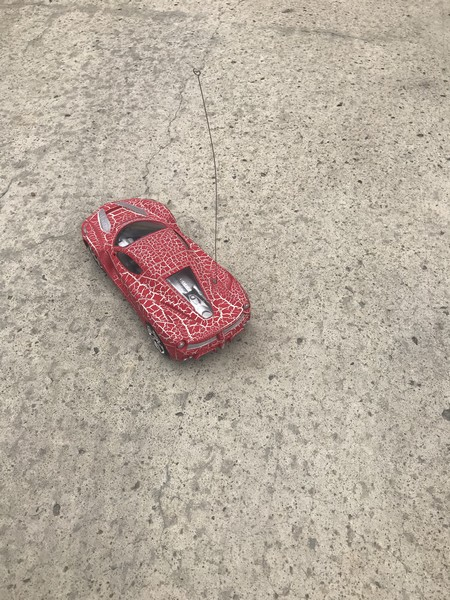RC: (80, 196, 253, 365)
